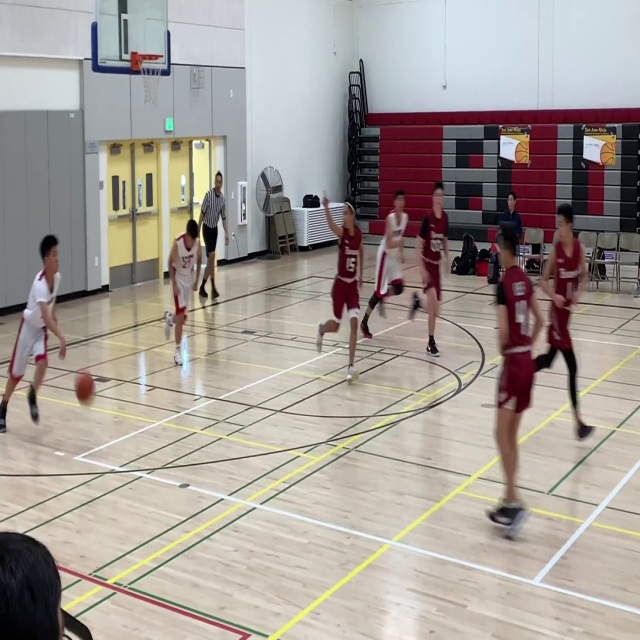Basketball: (75, 372, 94, 400)
